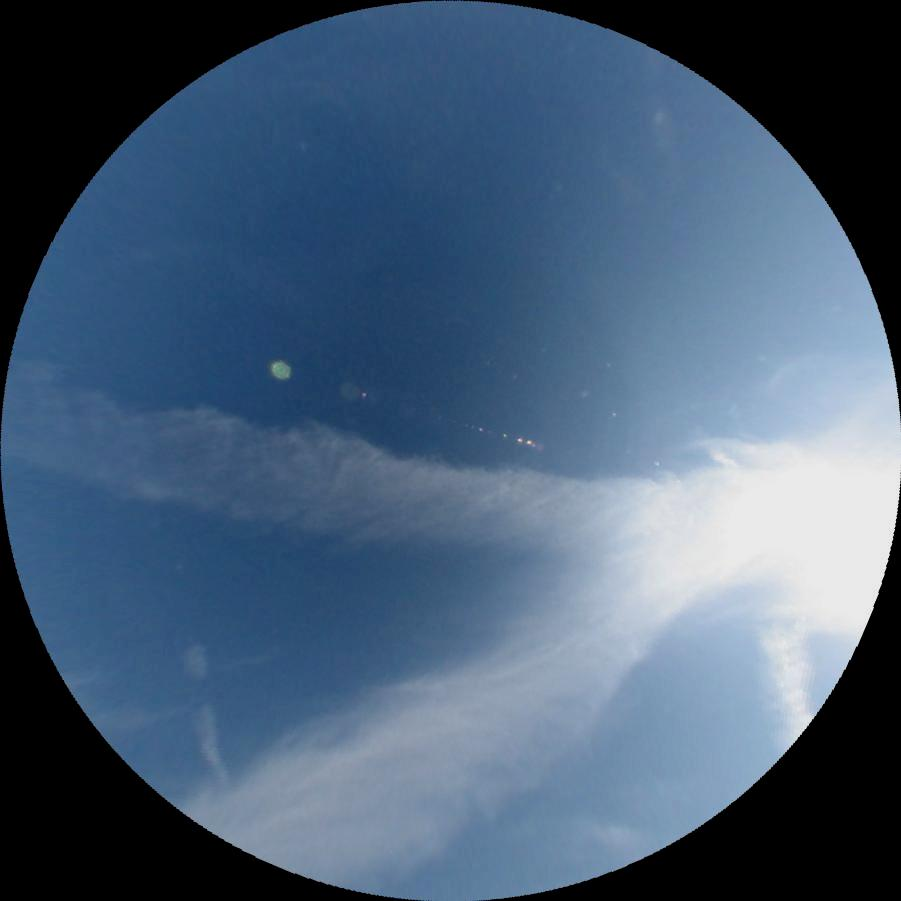contrail veryold: (0, 351, 683, 598), (757, 622, 815, 752)
unknow: (182, 642, 231, 791)
